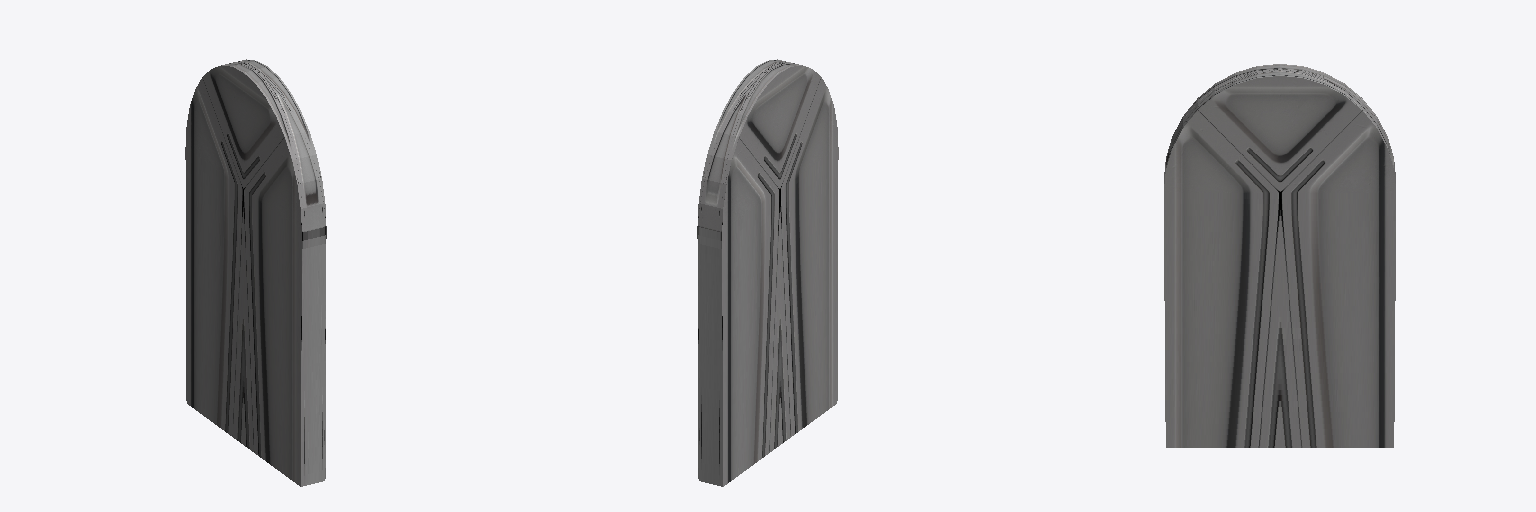
The picture shows the model from 3 angles: view 1: azimuth 30°, elevation 25°; view 2: azimuth 150°, elevation 25°; view 3: azimuth 270°, elevation 25°; orthographic projection.
Visible parts, largest first — view 1: Door_Cylinder; view 2: Door_Cylinder; view 3: Door_Cylinder.
Boxes of the visible parts, x1,y1,x2,y2 form: Door_Cylinder: [185, 59, 326, 486]; Door_Cylinder: [697, 59, 838, 486]; Door_Cylinder: [1164, 64, 1395, 447].
Bounding box in the file's own units: 0.5417 × 7.8 × 4.42.
Materials: 1 (1 with a texture image).